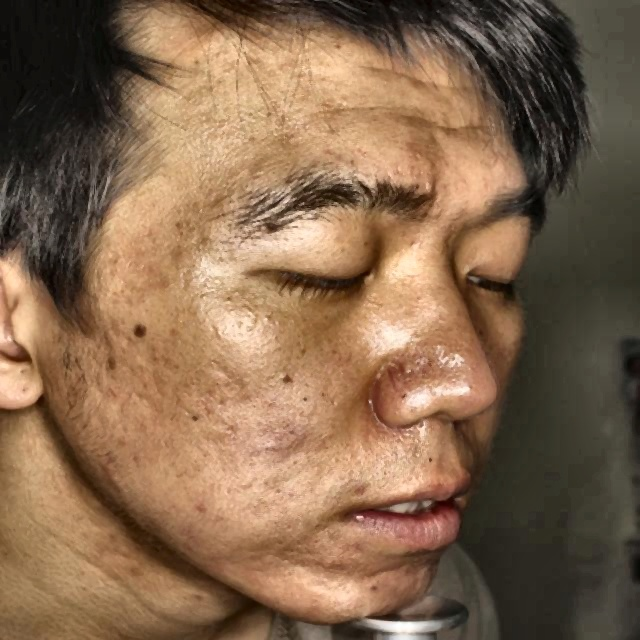comedone: (385, 354, 421, 377)
